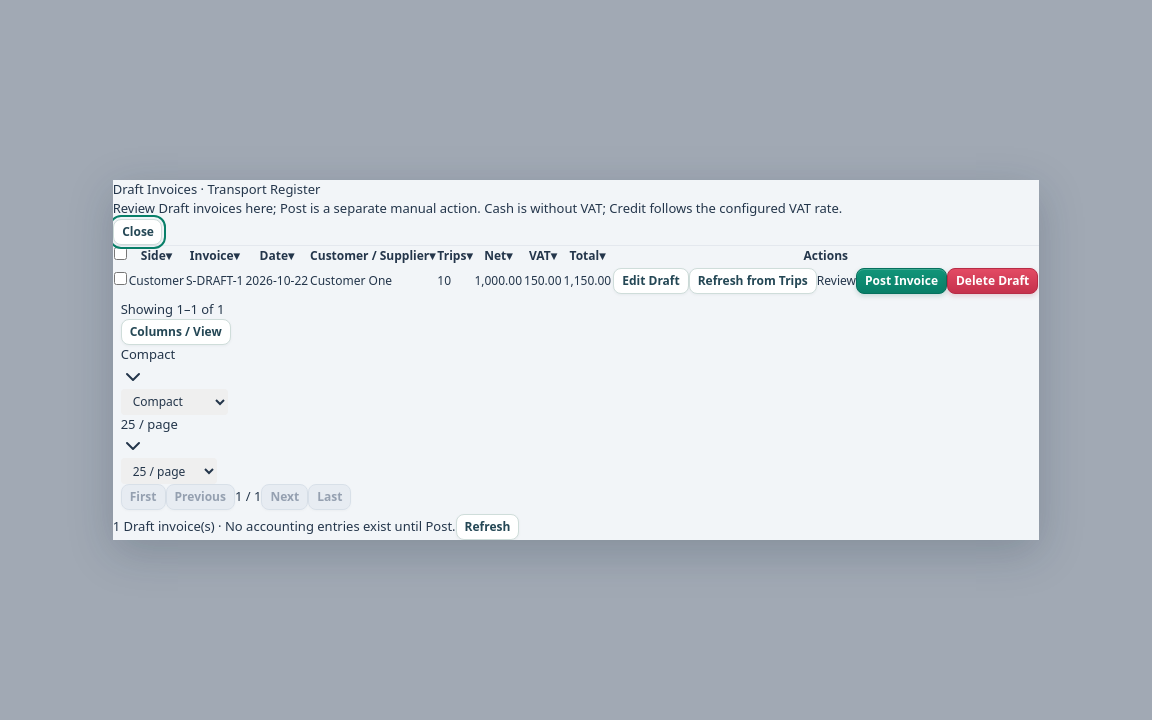
Scenario: Transport Register Draft invoices › edits a draft in place while preserving its document and invoice number
The width and height of the screenshot is (1152, 720).
Expected: the text "S-DRAFT-1" is shown, x1=185 y1=266 x2=244 y2=296
Click the button "Edit Draft" at (651, 281), box x1=613 y1=268 x2=689 y2=294
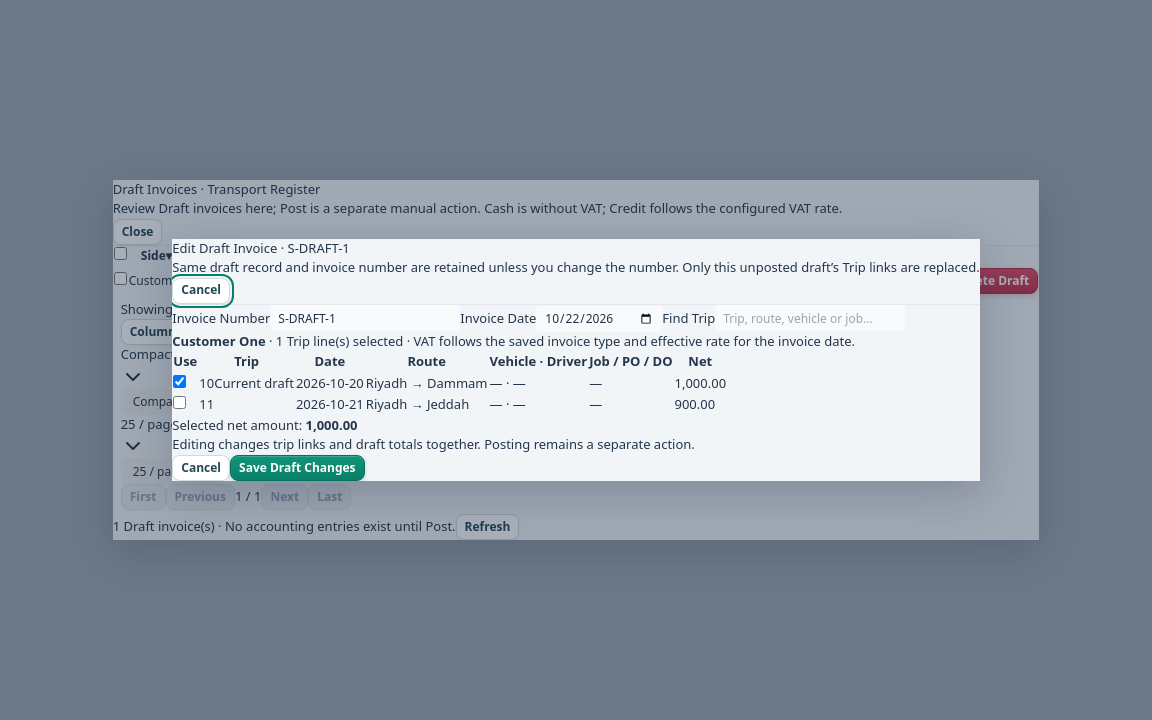
Click the checkbox named "Include Trip 11" at (180, 403), box x1=173 y1=396 x2=186 y2=409
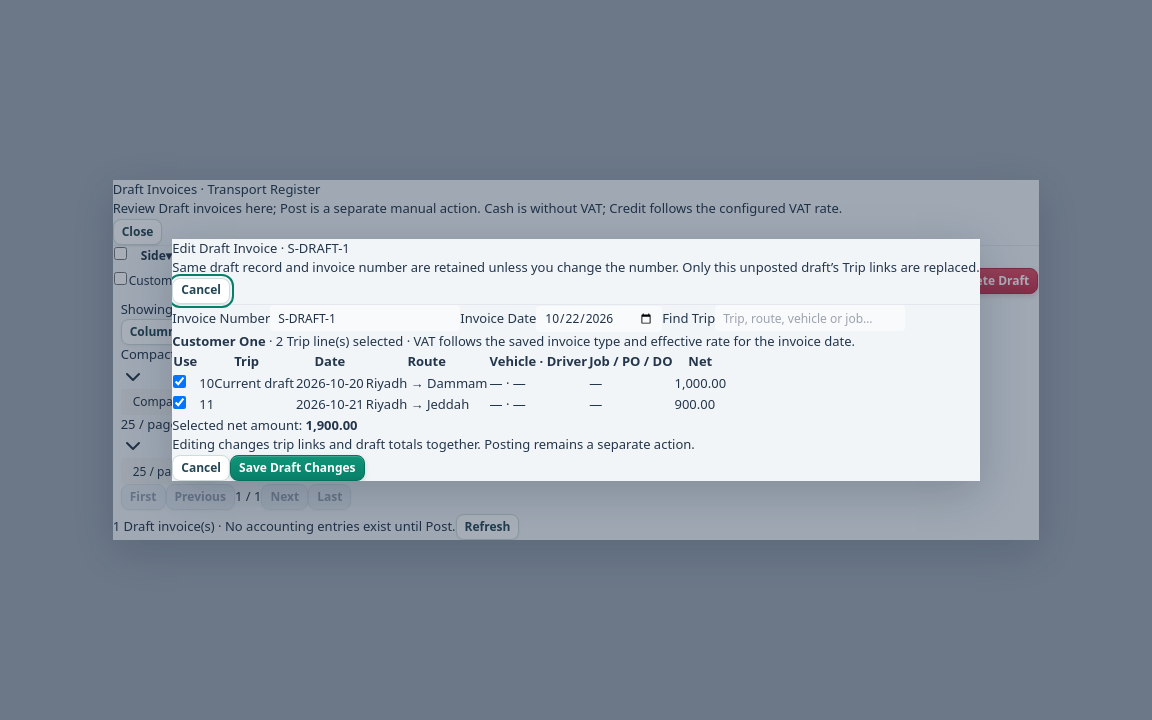
Now the checkbox named "Include Trip 10" is checked, box x1=173 y1=375 x2=186 y2=388
Click the button "Save Draft Changes" at (297, 468), box x1=230 y1=455 x2=364 y2=481
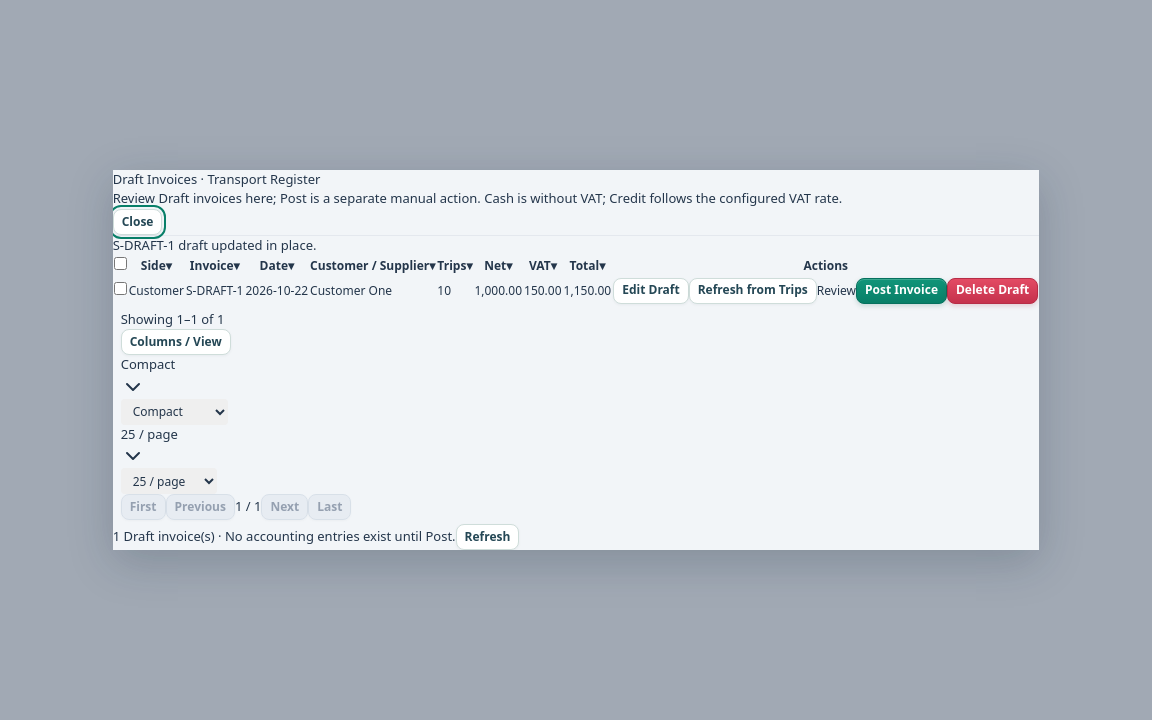
Now the text "S-DRAFT-1 draft updated in place." is shown, box x1=113 y1=236 x2=316 y2=254
